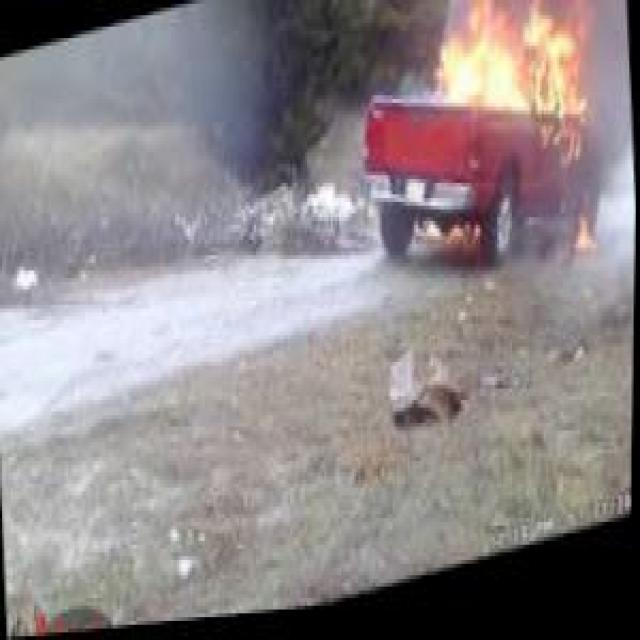Fire: (416, 0, 606, 213), (567, 213, 606, 282)
Smoke: (0, 0, 298, 293)
